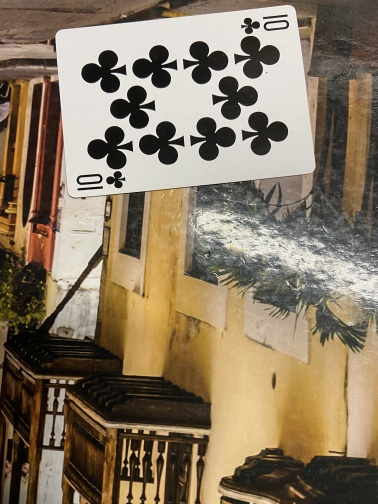ten: (54, 2, 318, 200)
